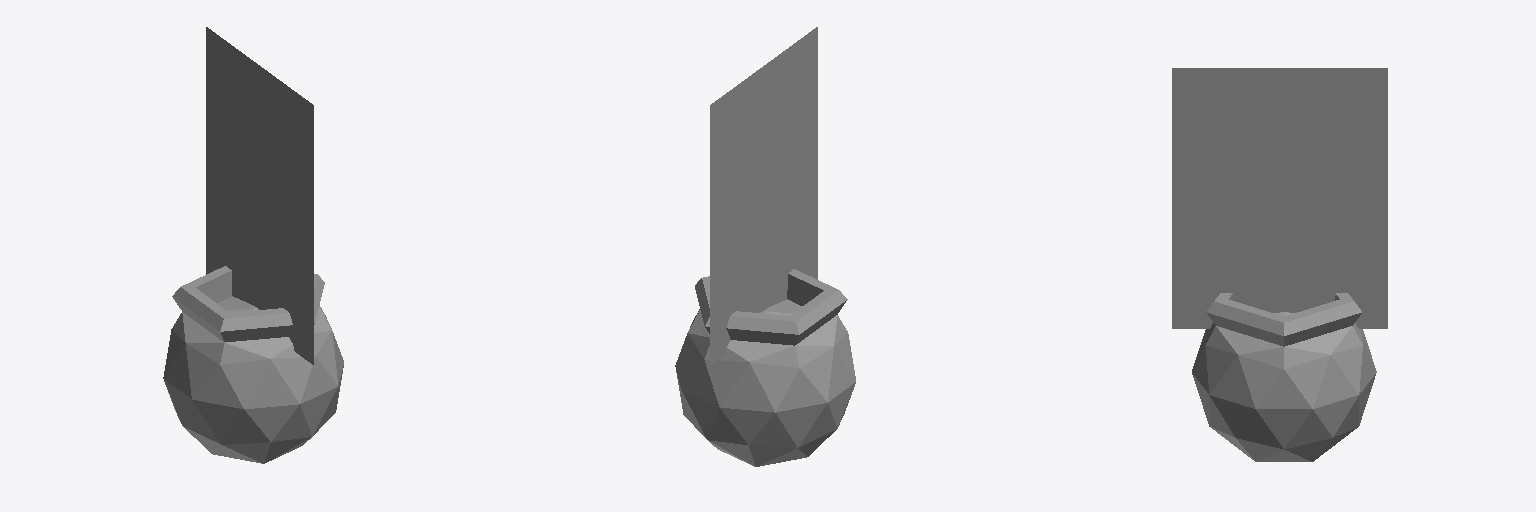
File: PinkPot(Big).obj
3 renders of one model, left to right at view 1: azimuth 30°, elevation 25°; view 2: azimuth 150°, elevation 25°; view 3: azimuth 270°, elevation 25°, orthographic.
Visible parts, largest first — view 1: Plane, Icosphere.001; view 2: Plane, Icosphere.001; view 3: Plane, Icosphere.001.
Boxes of the visible parts, box(x1,y1,x2,y2) form: Plane: box(206, 27, 313, 364); Icosphere.001: box(163, 266, 343, 463); Plane: box(710, 27, 817, 364); Icosphere.001: box(675, 269, 855, 466); Plane: box(1172, 68, 1387, 328); Icosphere.001: box(1192, 293, 1376, 461).
Bounding box in the file's own units: 1.3 × 3.08 × 1.59.